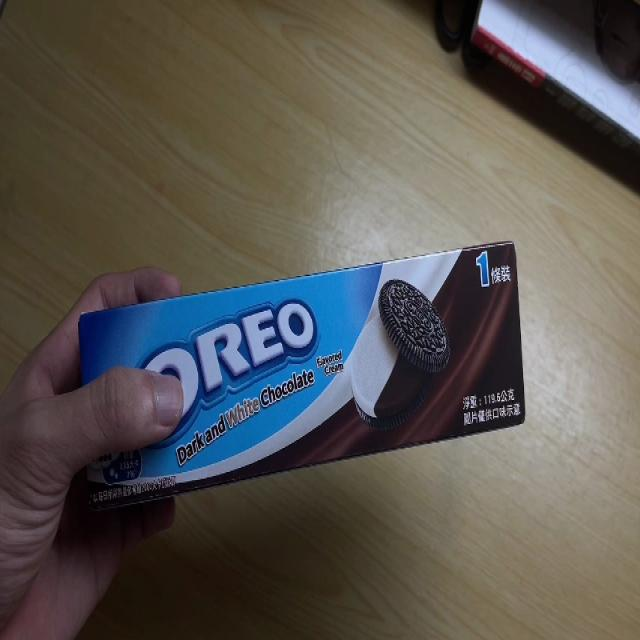Oreo: (76, 240, 526, 500)
